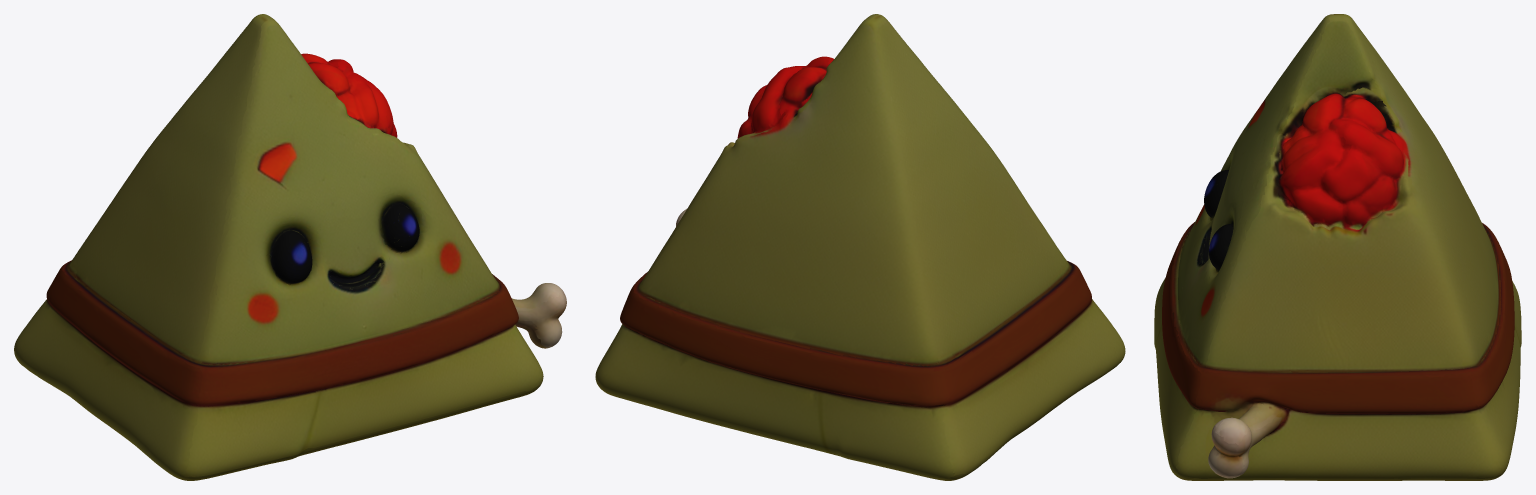
File: zombie.fbx
3 views of the same model, side by side, from view 1: azimuth 30°, elevation 25°; view 2: azimuth 150°, elevation 25°; view 3: azimuth 270°, elevation 25° (orthographic).
Parts seen in each view (by area): view 1: node_b68cae6c_94b5_4c86_bf49_da0b385ca3af_mesh0; view 2: node_b68cae6c_94b5_4c86_bf49_da0b385ca3af_mesh0; view 3: node_b68cae6c_94b5_4c86_bf49_da0b385ca3af_mesh0.
Boxes of the visible parts, x1,y1,x2,y2 form: node_b68cae6c_94b5_4c86_bf49_da0b385ca3af_mesh0: (14,14,566,480); node_b68cae6c_94b5_4c86_bf49_da0b385ca3af_mesh0: (595,14,1125,480); node_b68cae6c_94b5_4c86_bf49_da0b385ca3af_mesh0: (1154,14,1521,480).
Bounding box in the file's own units: 196 × 164 × 147.
1 material, 1 textured.
